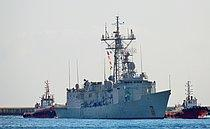MIL_Ship: (55, 14, 171, 121)
